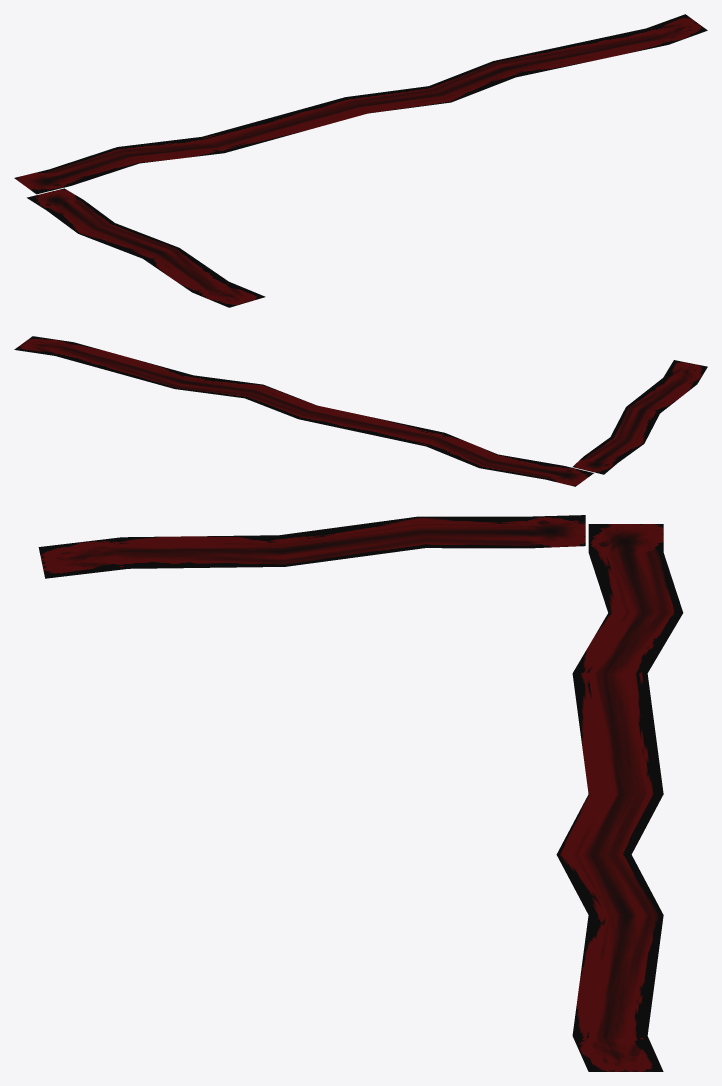
Rendered from bloodtrail.fbx.
3 renders of one model, top to bottom at view 1: azimuth 30°, elevation 25°; view 2: azimuth 150°, elevation 25°; view 3: azimuth 270°, elevation 25°, orthographic. The views are drawn at different scales.
Visible parts, largest first — view 1: Plane.001; view 2: Plane.001; view 3: Plane.001.
Part boxes in pixels (x1,y1,x2,y2): Plane.001: (14,14,707,307); Plane.001: (14,336,707,486); Plane.001: (38,515,683,1071).
Bounding box in the file's own units: 4573 × 0.000365 × 2237.
